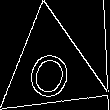O_NE: (24, 37, 79, 100)
